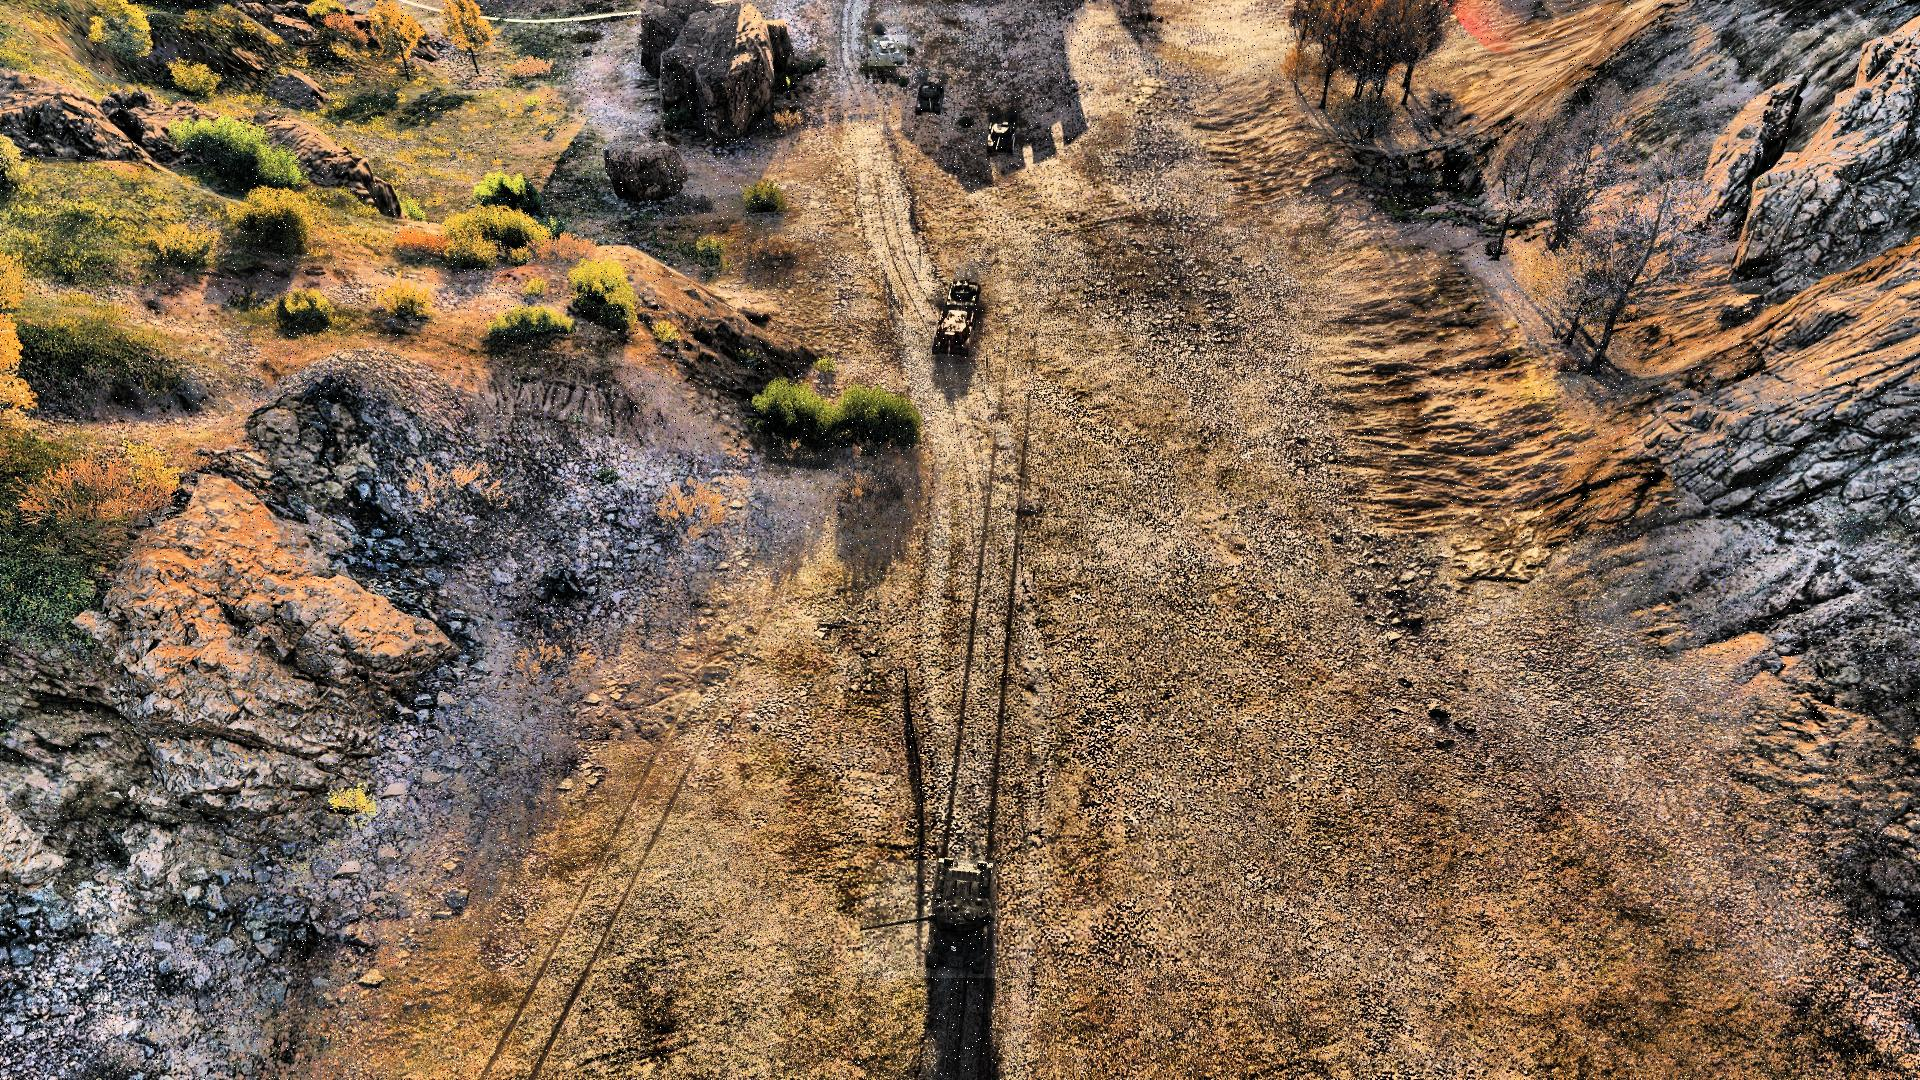military-vehicle: (864, 860, 997, 978), (931, 307, 977, 360), (985, 113, 1019, 154), (944, 280, 984, 313), (869, 36, 907, 67), (913, 83, 945, 115)
